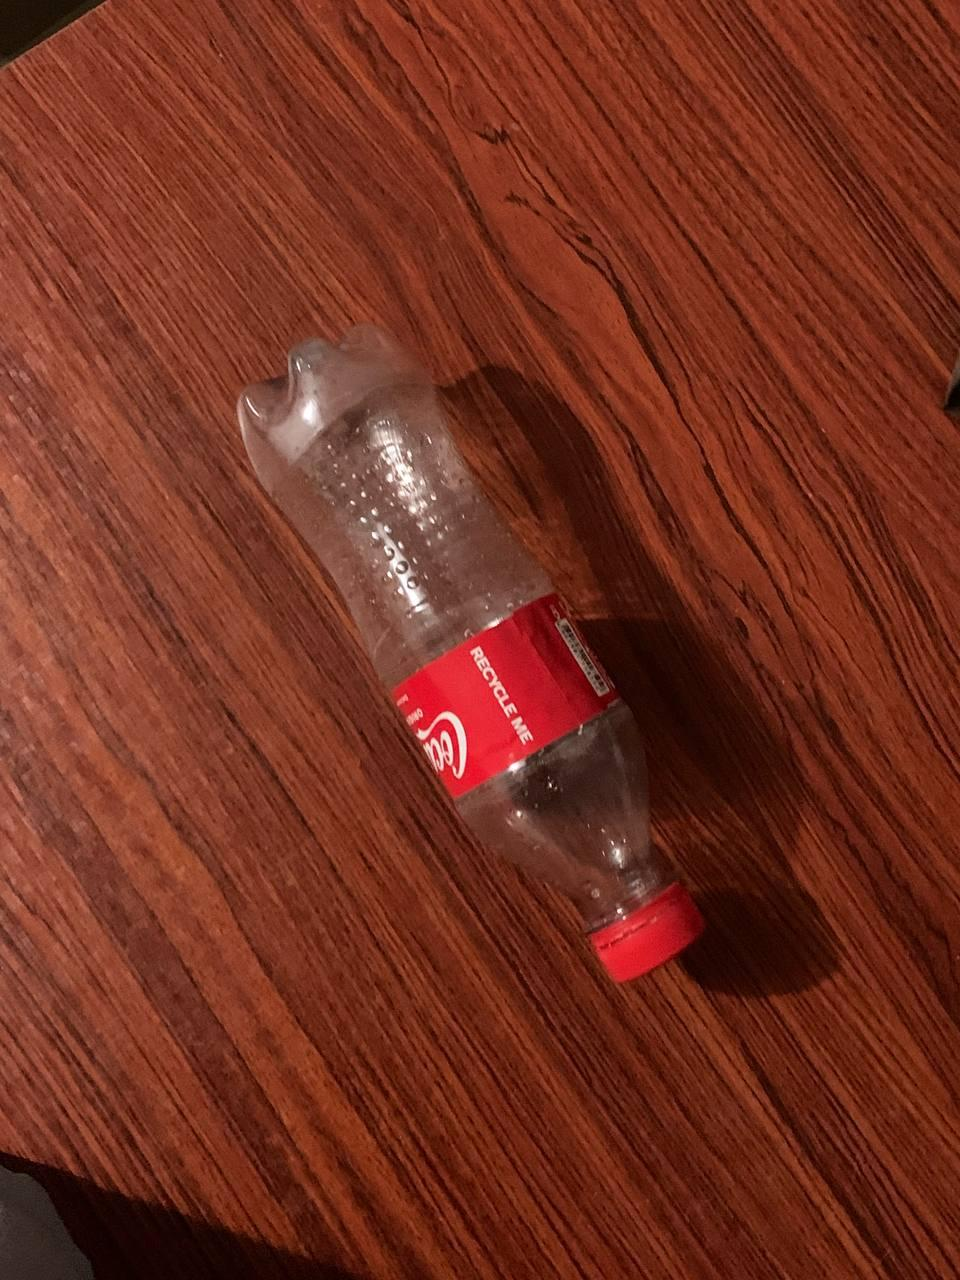plastic: (170, 306, 811, 1057)
